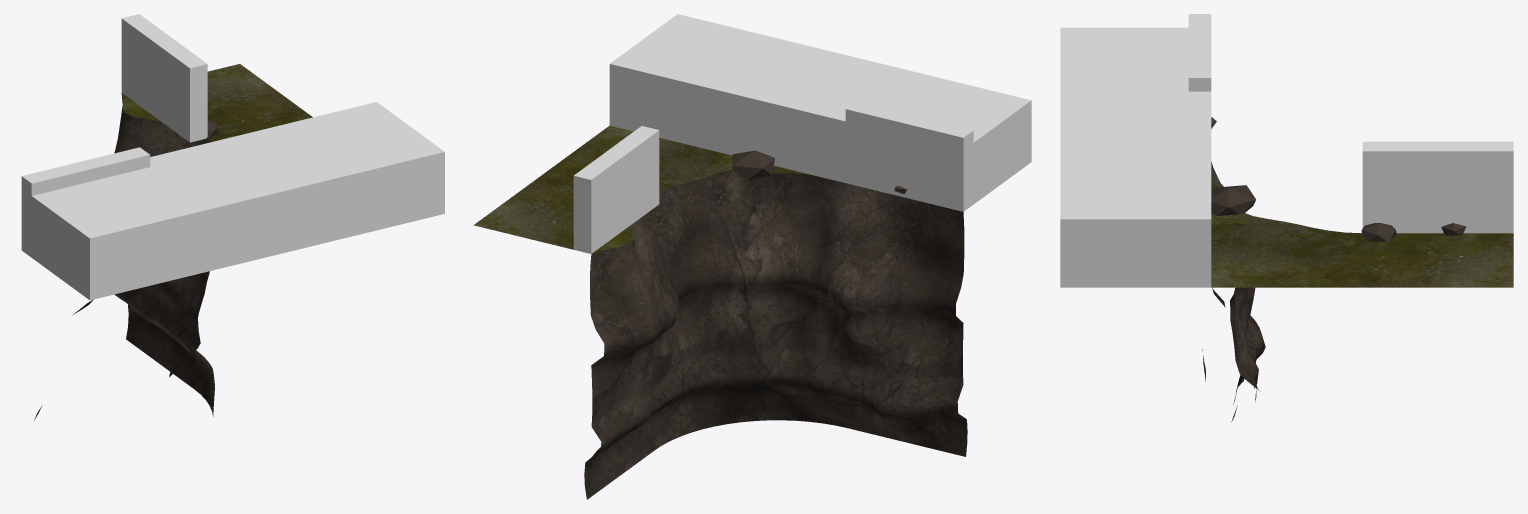
Rendered from cliff_edge_corner_inner.glb.
3 renders of one model, left to right at view 1: azimuth 30°, elevation 25°; view 2: azimuth 150°, elevation 25°; view 3: azimuth 270°, elevation 25°, orthographic. The views are drawn at different scales.
Visible parts, largest first — view 1: col_walk_cliff_edge_corner_inner, cliff_edge_corner_inner, col_block_rim_cliff_edge_corner_inner_1, col_block_rim_cliff_edge_corner_inner_0; view 2: cliff_edge_corner_inner, col_walk_cliff_edge_corner_inner, col_block_rim_cliff_edge_corner_inner_0, col_block_rim_cliff_edge_corner_inner_1; view 3: col_walk_cliff_edge_corner_inner, cliff_edge_corner_inner, col_block_rim_cliff_edge_corner_inner_1, col_block_rim_cliff_edge_corner_inner_0.
Boxes of the visible parts, x1=… form: col_walk_cliff_edge_corner_inner: x1=21, y1=102, x2=444, y2=300; cliff_edge_corner_inner: x1=34, y1=64, x2=312, y2=420; col_block_rim_cliff_edge_corner_inner_1: x1=121, y1=14, x2=207, y2=142; col_block_rim_cliff_edge_corner_inner_0: x1=21, y1=147, x2=150, y2=257; cliff_edge_corner_inner: x1=474, y1=125, x2=967, y2=499; col_walk_cliff_edge_corner_inner: x1=609, y1=14, x2=1031, y2=211; col_block_rim_cliff_edge_corner_inner_0: x1=845, y1=101, x2=973, y2=211; col_block_rim_cliff_edge_corner_inner_1: x1=573, y1=126, x2=659, y2=253; col_walk_cliff_edge_corner_inner: x1=1060, y1=27, x2=1211, y2=287; cliff_edge_corner_inner: x1=1202, y1=117, x2=1513, y2=422; col_block_rim_cliff_edge_corner_inner_1: x1=1362, y1=141, x2=1513, y2=233; col_block_rim_cliff_edge_corner_inner_0: x1=1188, y1=14, x2=1211, y2=91.
Size of the model in its own units: 6 by 5.2 by 6.
2 materials, 2 textured.
